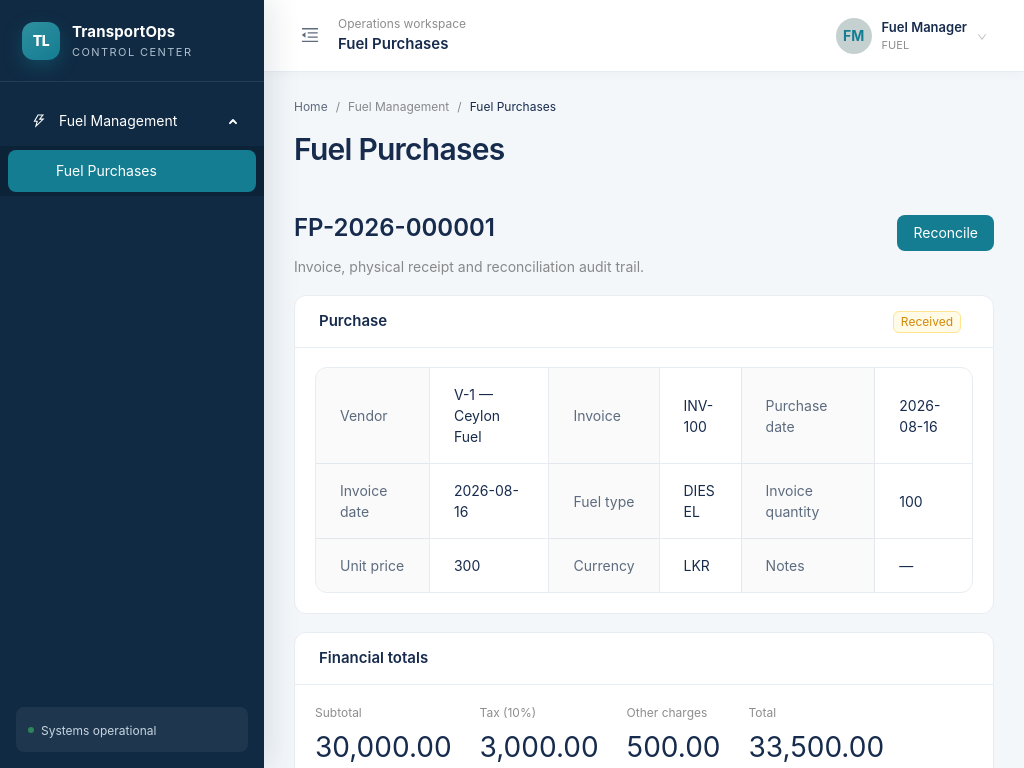
Fuel purchase pages › opens reconciliation with the backend variance summary
The width and height of the screenshot is (1024, 768).
Click the button "Reconcile" at [946, 232], box x1=897 y1=214 x2=994 y2=250
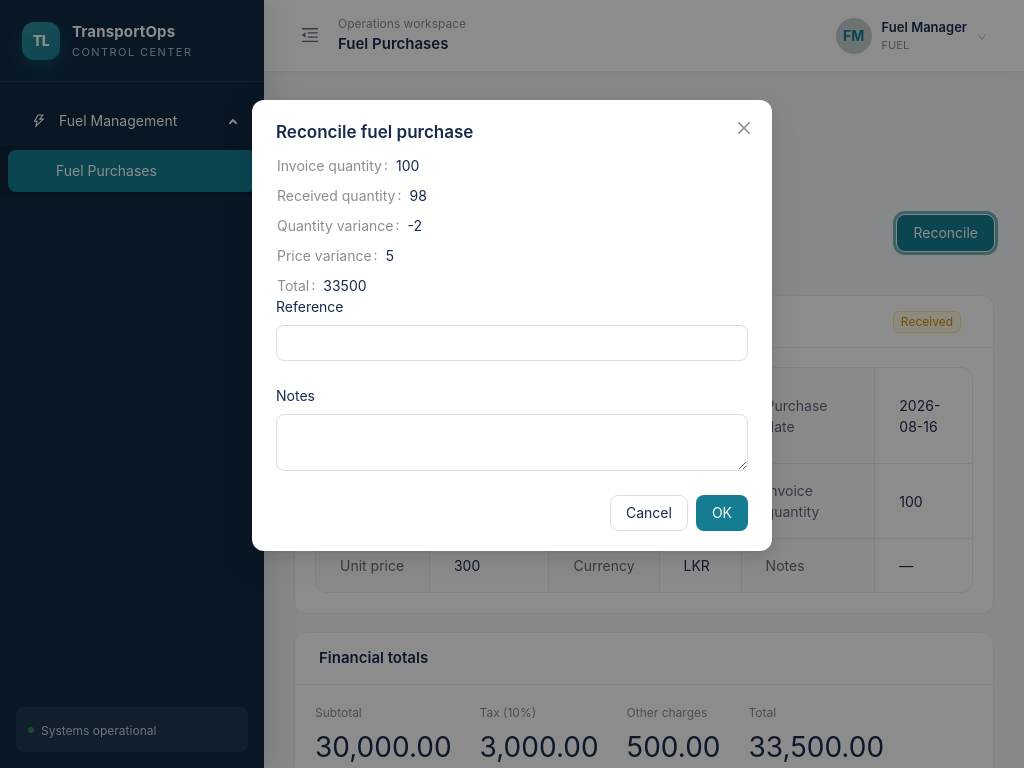
Result: the text "Reconcile fuel purchase" is shown at x1=276 y1=122 x2=473 y2=142
